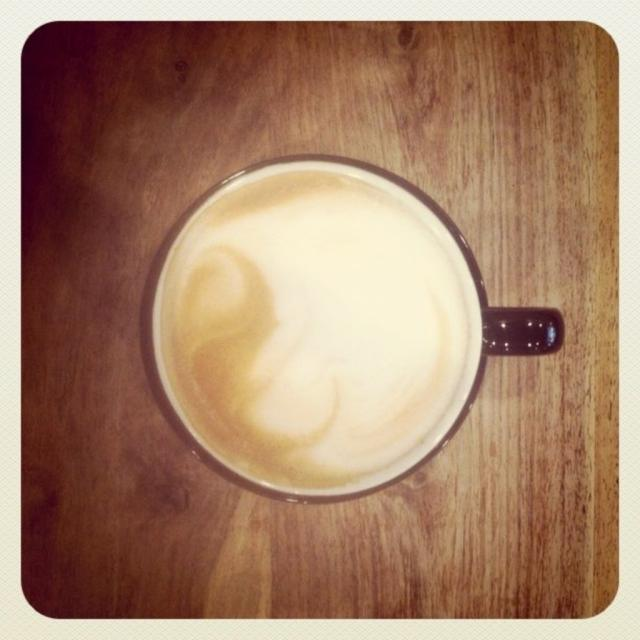Coffee: (156, 164, 476, 487)
